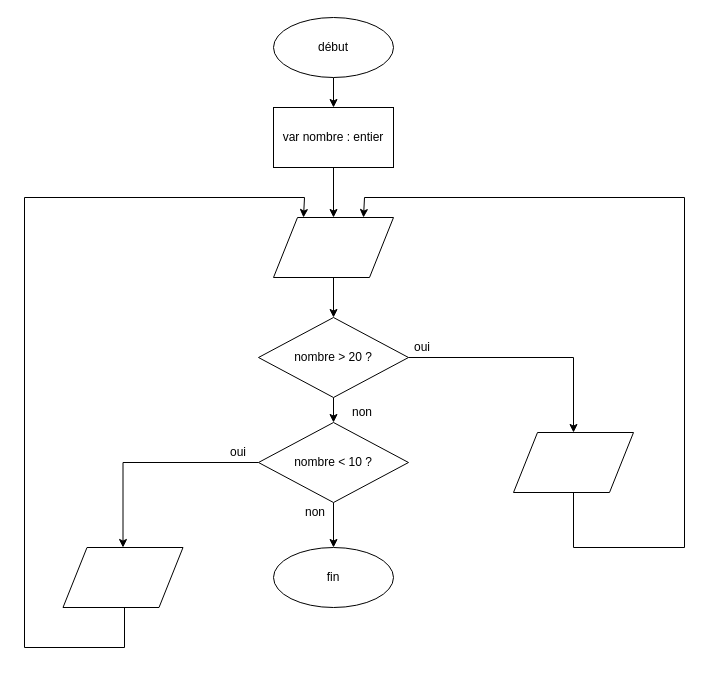
This 710x673 diagram has some shape labels left out. Each missing label, with the centre of its shape:
afficher "Plus grand!": (122,577)
afficher "Plus petit!": (573,462)
lecture nombre: (333,247)
